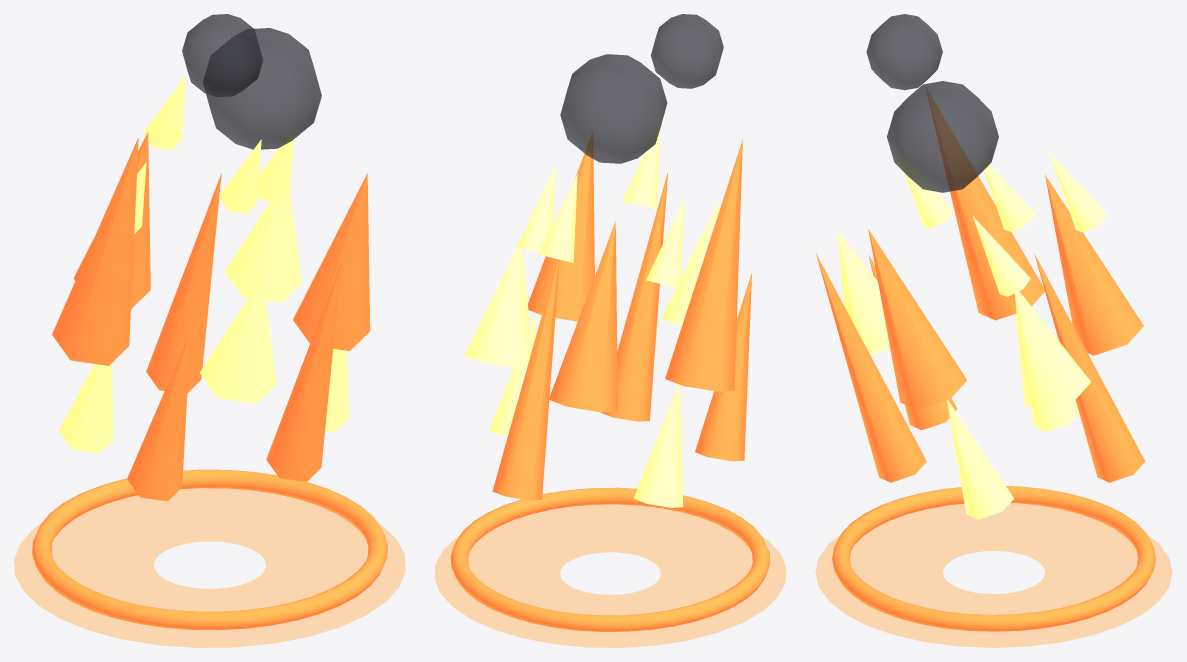
Rendered from vfx_status_burn.glb.
3 views of the same model, side by side, from view 1: azimuth 30°, elevation 25°; view 2: azimuth 150°, elevation 25°; view 3: azimuth 270°, elevation 25° (orthographic). The views are drawn at different scales.
Parts seen in each view (by area): view 1: burn_scorch, burn_ring, burn_smoke, burn_flame5, burn_flame2, burn_flame1, burn_flame8, burn_flame3, burn_smoke_b, burn_flame4, burn_flame9, burn_flame6 (+5 smaller); view 2: burn_scorch, burn_ring, burn_flame5, burn_smoke, burn_flame7, burn_flame8, burn_flame2, burn_flame1, burn_flame9, burn_flame4, burn_smoke_b, burn_flame6 (+6 smaller); view 3: burn_scorch, burn_ring, burn_smoke, burn_flame5, burn_flame1, burn_flame7, burn_flame2, burn_flame8, burn_flame9, burn_smoke_b, burn_flame0, burn_flame3 (+6 smaller).
Boxes of the visible parts, x1=… form: burn_scorch: x1=14, y1=488, x2=405, y2=647; burn_ring: x1=32, y1=469, x2=387, y2=630; burn_smoke: x1=203, y1=28, x2=321, y2=149; burn_flame5: x1=52, y1=137, x2=138, y2=365; burn_flame2: x1=266, y1=260, x2=341, y2=481; burn_flame1: x1=293, y1=173, x2=370, y2=350; burn_flame8: x1=146, y1=173, x2=221, y2=393; burn_flame3: x1=199, y1=277, x2=276, y2=403; burn_smoke_b: x1=182, y1=14, x2=263, y2=97; burn_flame4: x1=127, y1=331, x2=190, y2=501; burn_flame9: x1=225, y1=193, x2=301, y2=303; burn_flame6: x1=59, y1=364, x2=113, y2=453; burn_scorch: x1=434, y1=504, x2=786, y2=647; burn_ring: x1=450, y1=487, x2=770, y2=631; burn_flame5: x1=665, y1=139, x2=742, y2=391; burn_smoke: x1=560, y1=54, x2=667, y2=163; burn_flame7: x1=548, y1=221, x2=617, y2=412; burn_flame8: x1=492, y1=259, x2=559, y2=500; burn_flame2: x1=600, y1=171, x2=668, y2=421; burn_flame1: x1=528, y1=132, x2=594, y2=321; burn_flame9: x1=465, y1=239, x2=532, y2=368; burn_flame4: x1=695, y1=273, x2=751, y2=461; burn_smoke_b: x1=651, y1=14, x2=723, y2=88; burn_flame6: x1=633, y1=384, x2=683, y2=507; burn_scorch: x1=815, y1=503, x2=1172, y2=647; burn_ring: x1=832, y1=486, x2=1155, y2=631; burn_smoke: x1=887, y1=81, x2=998, y2=192; burn_flame5: x1=925, y1=86, x2=1044, y2=320; burn_flame1: x1=868, y1=229, x2=967, y2=409; burn_flame7: x1=1045, y1=175, x2=1143, y2=355; burn_flame2: x1=816, y1=253, x2=926, y2=482; burn_flame8: x1=1034, y1=253, x2=1145, y2=482; burn_flame9: x1=1014, y1=285, x2=1090, y2=411; burn_smoke_b: x1=866, y1=14, x2=942, y2=90; burn_flame0: x1=947, y1=400, x2=1013, y2=519; burn_flame3: x1=837, y1=230, x2=890, y2=355.
Bounding box in the file's own units: 1.4 × 2.33 × 1.4.
